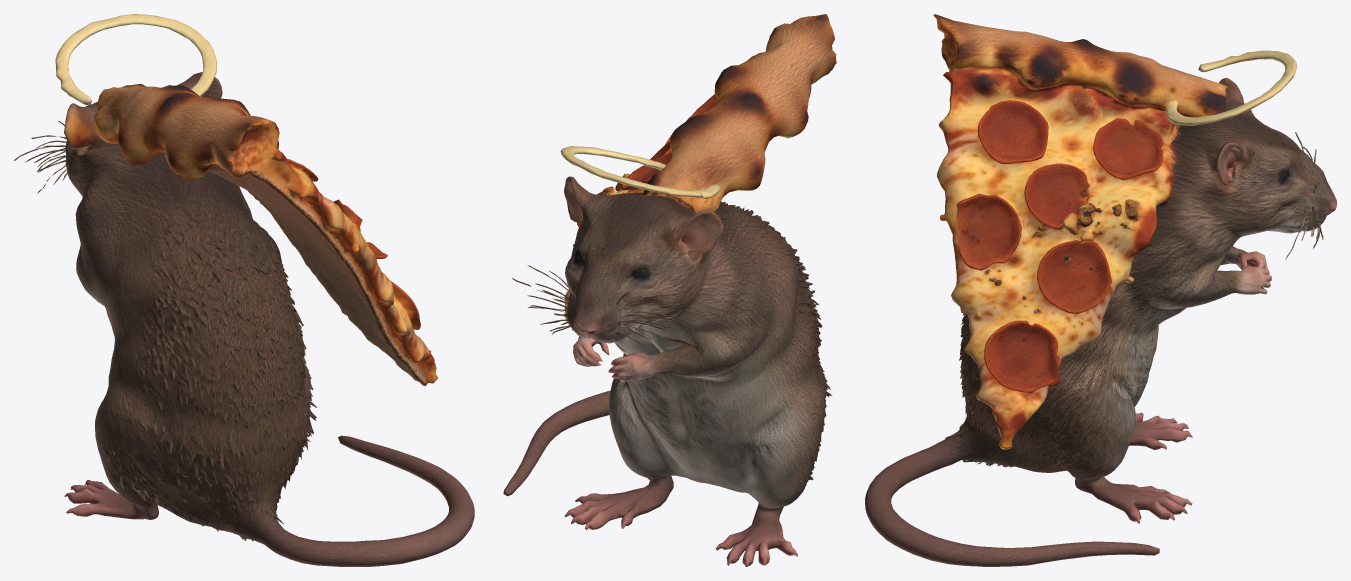
File: sw_pizzarat.glb
3 views of the same model, side by side, from view 1: azimuth 30°, elevation 25°; view 2: azimuth 150°, elevation 25°; view 3: azimuth 270°, elevation 25° (orthographic).
Parts seen in each view (by area): view 1: tripo_node_c0bcc02c-82f1-4c8b-8ed3-bce69705f117; view 2: tripo_node_c0bcc02c-82f1-4c8b-8ed3-bce69705f117; view 3: tripo_node_c0bcc02c-82f1-4c8b-8ed3-bce69705f117.
Part boxes in pixels (bbox=[...]): tripo_node_c0bcc02c-82f1-4c8b-8ed3-bce69705f117: bbox=[14, 14, 474, 566]; tripo_node_c0bcc02c-82f1-4c8b-8ed3-bce69705f117: bbox=[503, 14, 836, 566]; tripo_node_c0bcc02c-82f1-4c8b-8ed3-bce69705f117: bbox=[865, 14, 1336, 566].
Size of the model in its own units: 0.7402 by 1 by 0.9664.
1 material, 1 textured.
